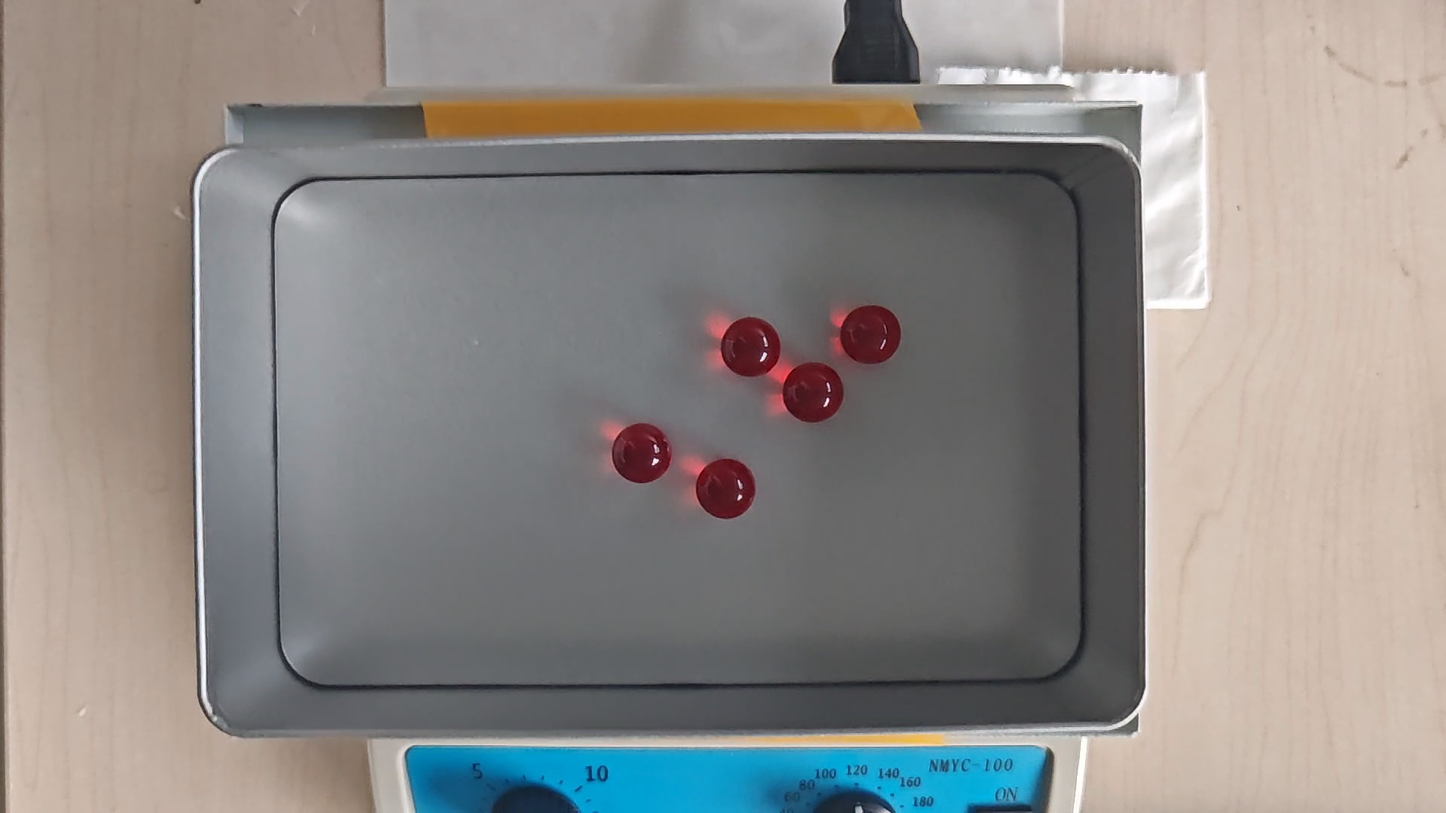ball: (782, 362, 844, 425), (721, 315, 782, 378), (612, 422, 673, 484), (697, 457, 756, 519), (841, 306, 900, 365)
container: (269, 173, 1084, 687)
